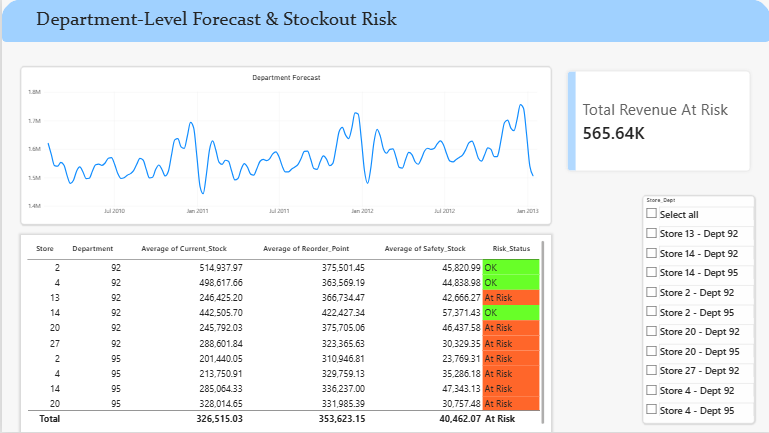

What the dashboard file says about the page in this screenshot:
{"tool":"powerbi","page":{"name":"Department Drill-Down","canvas":[1920,1080],"ordinal":1},"visuals":[{"type":"slicer","fields":{"Values":["forecast_output.Store_Dept"]},"box":[1602.5,490,277.5,567.5],"z":0},{"type":"lineChart","title":"Department Forecast","fields":{"Category":["forecast_output.ds.Variation.Date Hierarchy.Year","forecast_output.ds.Variation.Date Hierarchy.Quarter","forecast_output.ds.Variation.Date Hierarchy.Month","forecast_output.ds.Variation.Date Hierarchy.Day"],"Y":["Sum(forecast_output.yhat)"]},"box":[47.5,167.5,1325,392.5],"z":1000},{"type":"tableEx","fields":{"Values":["forecast_output.Store","forecast_output.Department","Avg(forecast_output.Current_Stock)","Avg(forecast_output.Reorder_Point)","Avg(forecast_output.Safety_Stock)","forecast_output.Risk_Status"]},"box":[47.5,587.5,1325,492.5],"z":2000},{"type":"cardVisual","fields":{"Data":["forecast_output.Total Revenue At Risk"]},"box":[1400,167.5,480,270],"z":3000},{"type":"shape","box":[0,0,1920,105],"z":3001},{"type":"textbox","box":[1400,490,203,568],"z":3002},{"type":"textbox","box":[86.1,16.7,1072.2,300],"z":3003}]}

Visuals, with their boxes in screenshot pixels (x1, y1, x2, y2), scaled from the page's 1920x1080 canvas onto the 769x433 screenshot:
slicer - forecast_output.Store_Dept: {"left": 642, "top": 196, "right": 753, "bottom": 424}
"Department Forecast" lineChart: {"left": 19, "top": 67, "right": 550, "bottom": 225}
tableEx - forecast_output.Store x forecast_output.Department: {"left": 19, "top": 236, "right": 550, "bottom": 432}
cardVisual - forecast_output.Total Revenue At Risk: {"left": 561, "top": 67, "right": 753, "bottom": 175}
shape: {"left": 0, "top": 0, "right": 768, "bottom": 42}
textbox: {"left": 561, "top": 196, "right": 642, "bottom": 424}
textbox: {"left": 34, "top": 7, "right": 464, "bottom": 127}
